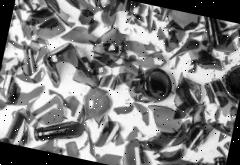glass: (37, 36, 100, 96), (86, 8, 133, 74), (124, 59, 176, 112), (29, 114, 85, 152)
